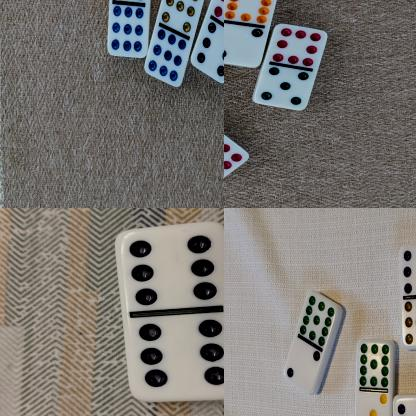pip-10: (224, 0, 275, 26)
pip-11: (300, 292, 337, 349), (356, 342, 394, 392)
pip-2: (284, 342, 322, 396), (224, 26, 264, 68)
pip-3: (356, 390, 391, 416)
pip-5: (252, 66, 310, 112)
pip-6: (115, 223, 224, 312), (125, 313, 224, 400), (193, 21, 224, 82), (401, 243, 416, 298), (393, 394, 416, 416)
pip-7: (161, 0, 206, 33), (401, 296, 416, 349)
pip-8: (272, 24, 327, 67), (224, 133, 250, 183)
pip-9: (146, 30, 188, 89), (108, 6, 148, 60)
